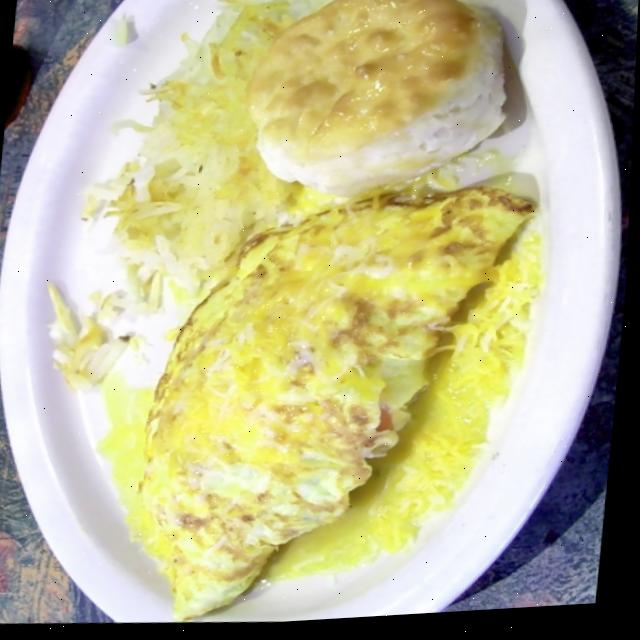鸡蛋料理: (77, 152, 576, 635)
